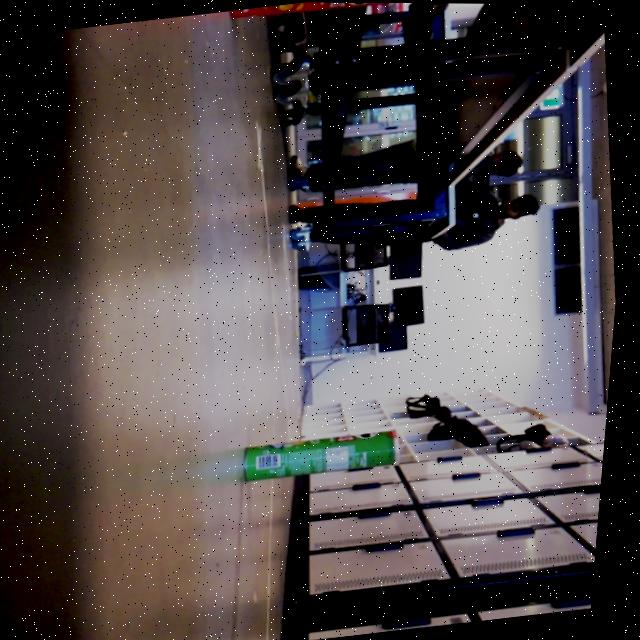greenpringles: (225, 423, 430, 504)
redpringles: (224, 1, 411, 23)
